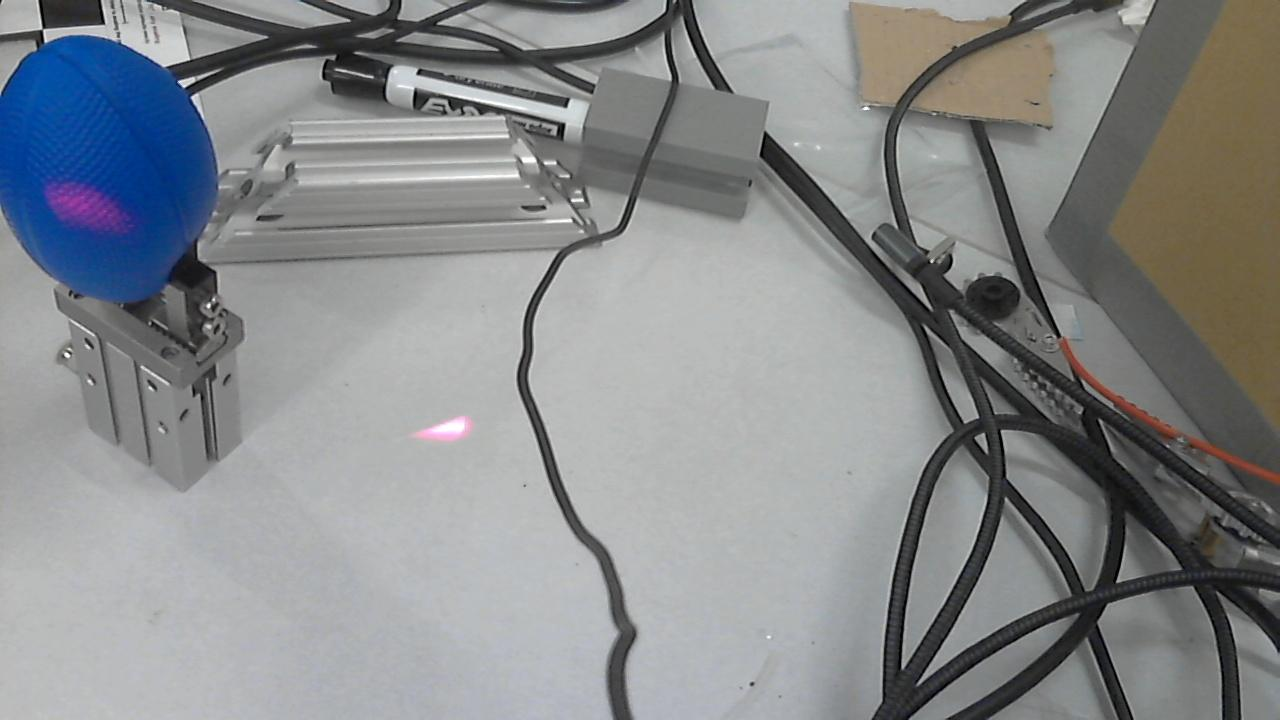Object toy football - Material foam - Color blue - Pdfname VT1ffZoLOnKv: (15, 159, 145, 252)
